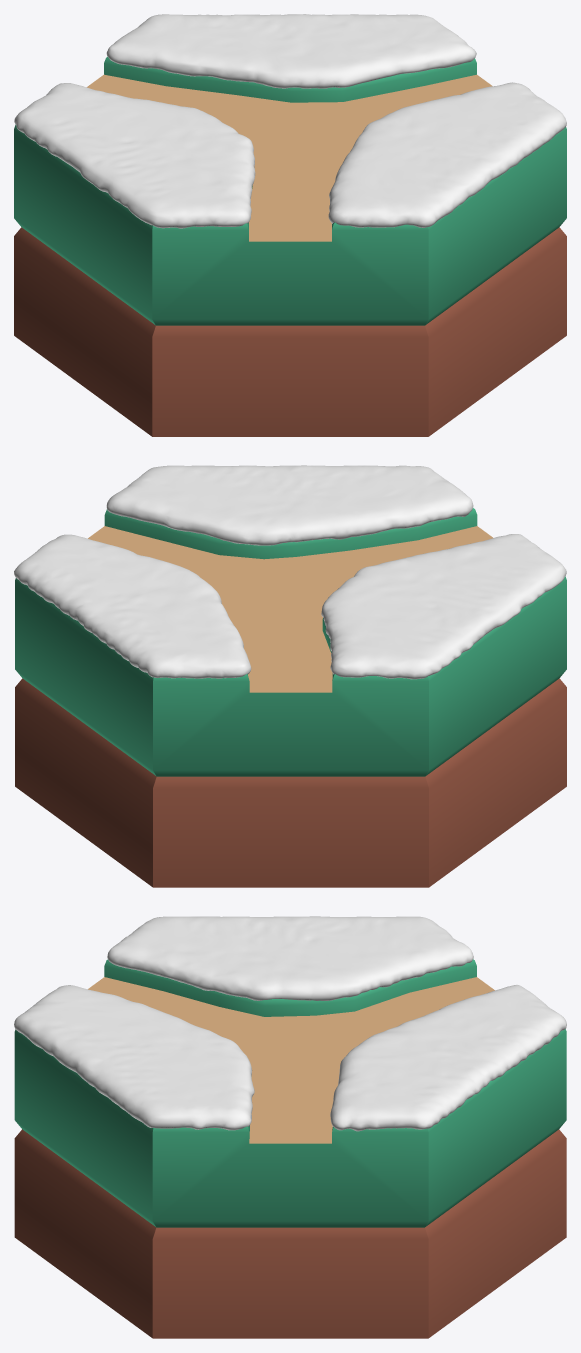
The model's file is snow_hex_forest_roadG_detail.fbx.
The picture shows the model from 3 angles, top to bottom: view 1: azimuth 30°, elevation 25°; view 2: azimuth 150°, elevation 25°; view 3: azimuth 270°, elevation 25°; orthographic projection.
Visible parts, largest first — view 1: SnowBall.001, hex_forest_roadG_detail.002, hex_forest_roadG_detail.001, hex_forest_roadG_detail; view 2: SnowBall.001, hex_forest_roadG_detail.002, hex_forest_roadG_detail.001, hex_forest_roadG_detail; view 3: SnowBall.001, hex_forest_roadG_detail.002, hex_forest_roadG_detail.001, hex_forest_roadG_detail.
Part boxes in pixels (box(x1,y1,x2,y2)): SnowBall.001: box(14, 14, 566, 228); hex_forest_roadG_detail.002: box(14, 227, 566, 436); hex_forest_roadG_detail.001: box(14, 56, 566, 325); hex_forest_roadG_detail: box(87, 74, 492, 241); SnowBall.001: box(14, 465, 566, 679); hex_forest_roadG_detail.002: box(15, 678, 566, 887); hex_forest_roadG_detail.001: box(15, 508, 566, 776); hex_forest_roadG_detail: box(88, 526, 492, 692); SnowBall.001: box(14, 916, 566, 1131); hex_forest_roadG_detail.002: box(14, 1129, 566, 1338); hex_forest_roadG_detail.001: box(14, 959, 566, 1227); hex_forest_roadG_detail: box(88, 977, 494, 1143).
Size of the model in its own units: 204 by 104 by 231.
